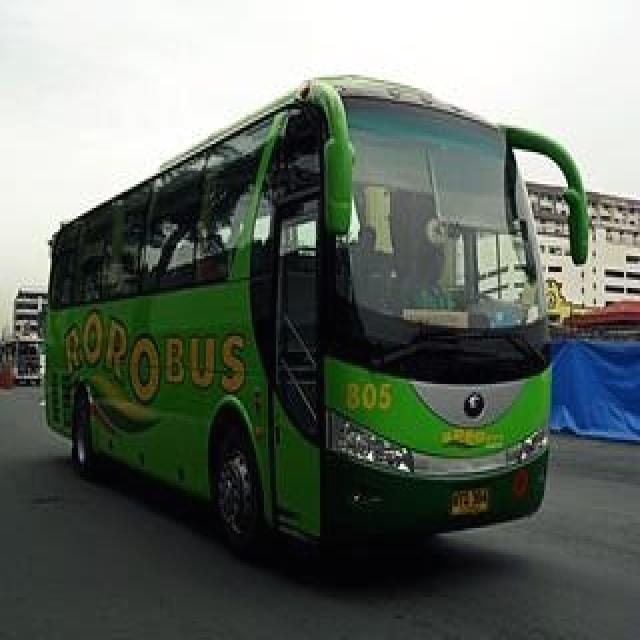Bus: (41, 69, 598, 561)
